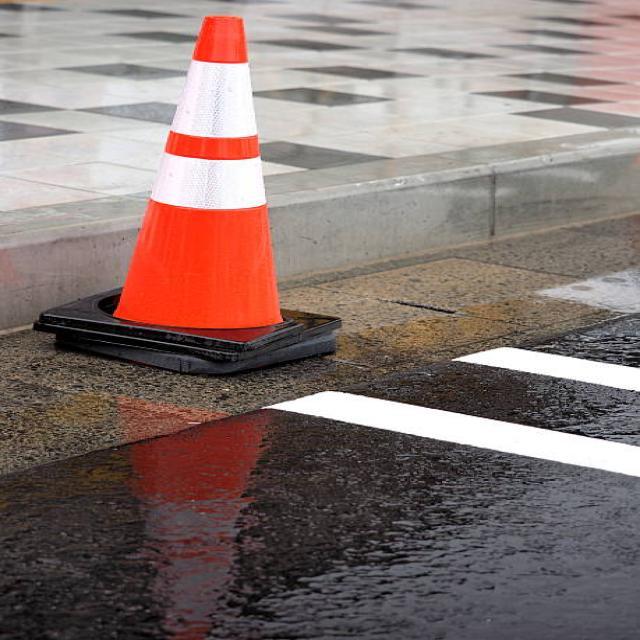Traffic Cone: (21, 2, 374, 396)
